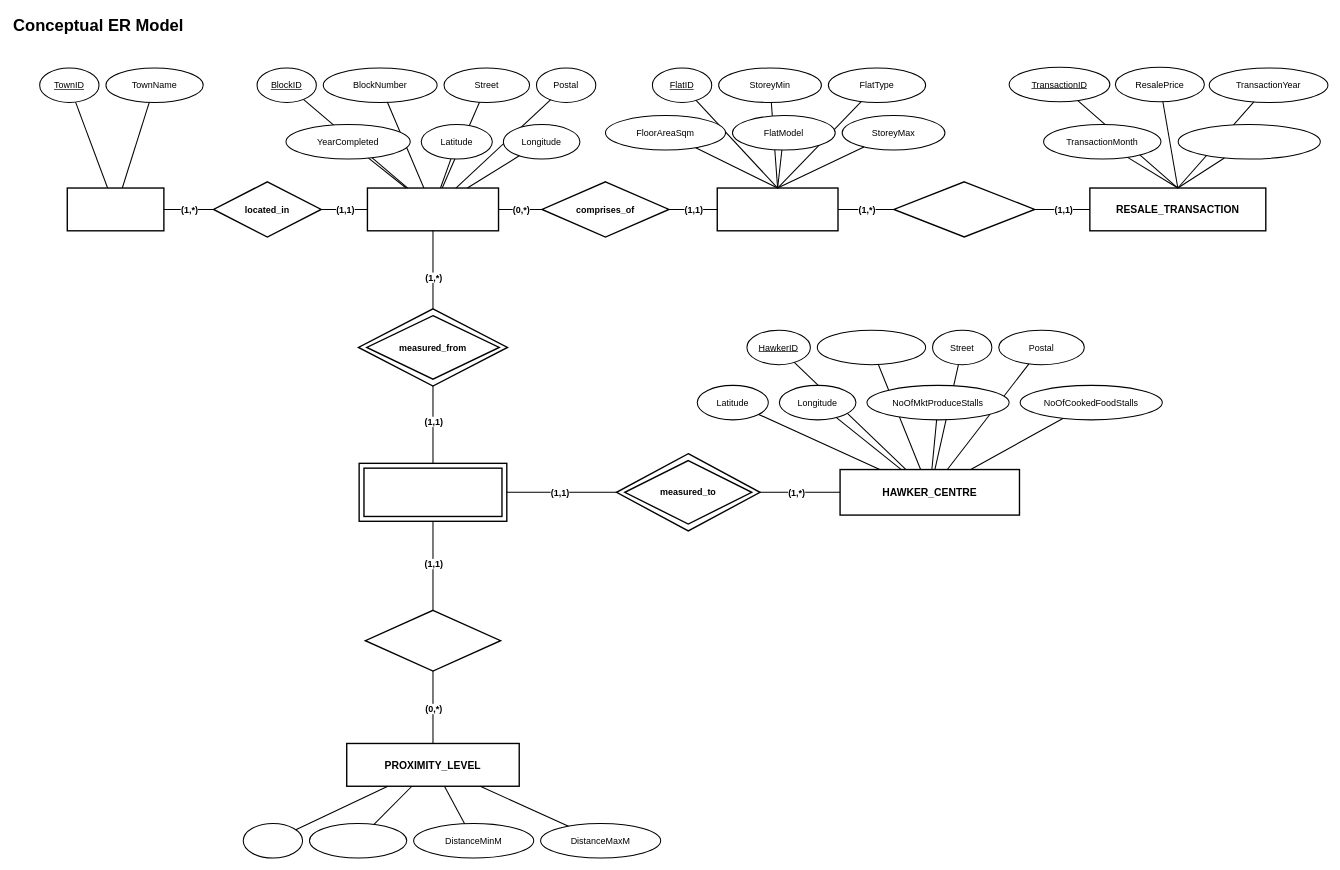
This 1340x870 diagram has some shape labels left out. The centre of each missing label's shape, as x and y in pixels:
categorised_by: pixel 432 640
Category: pixel 358 840
has_transaction: pixel 964 209
HawkerName: pixel 871 347
HDB_BLOCK: pixel 432 209
HDB_FLAT: pixel 777 209
LevelID: pixel 272 840
PROXIMITY: pixel 432 492
RemainingLeaseYears: pixel 1249 141
TOWN: pixel 115 209
